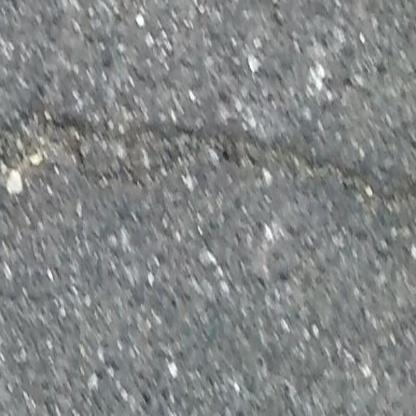Cracks: (0, 102, 416, 227)
